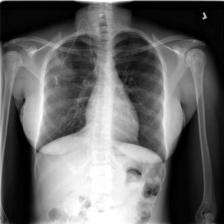normal: (36, 28, 168, 164)
